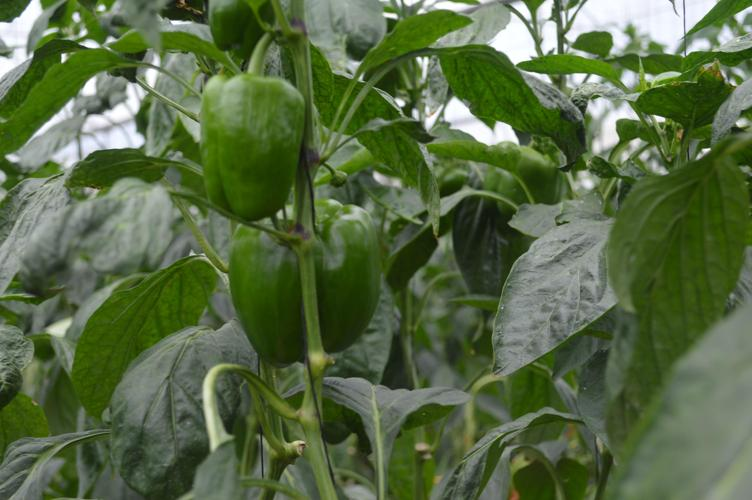BellPepper: (217, 202, 381, 355), (194, 73, 306, 218), (484, 142, 556, 225), (204, 5, 273, 52)
